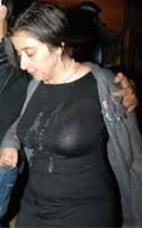Drunk: (11, 33, 55, 81)
